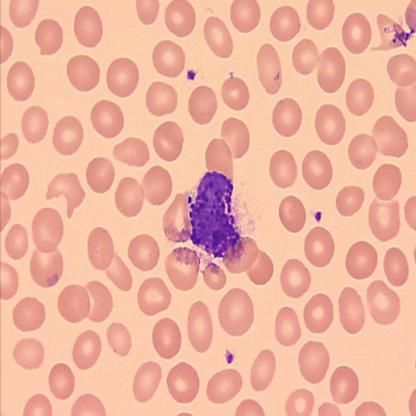Basophil: (184, 168, 246, 262)
